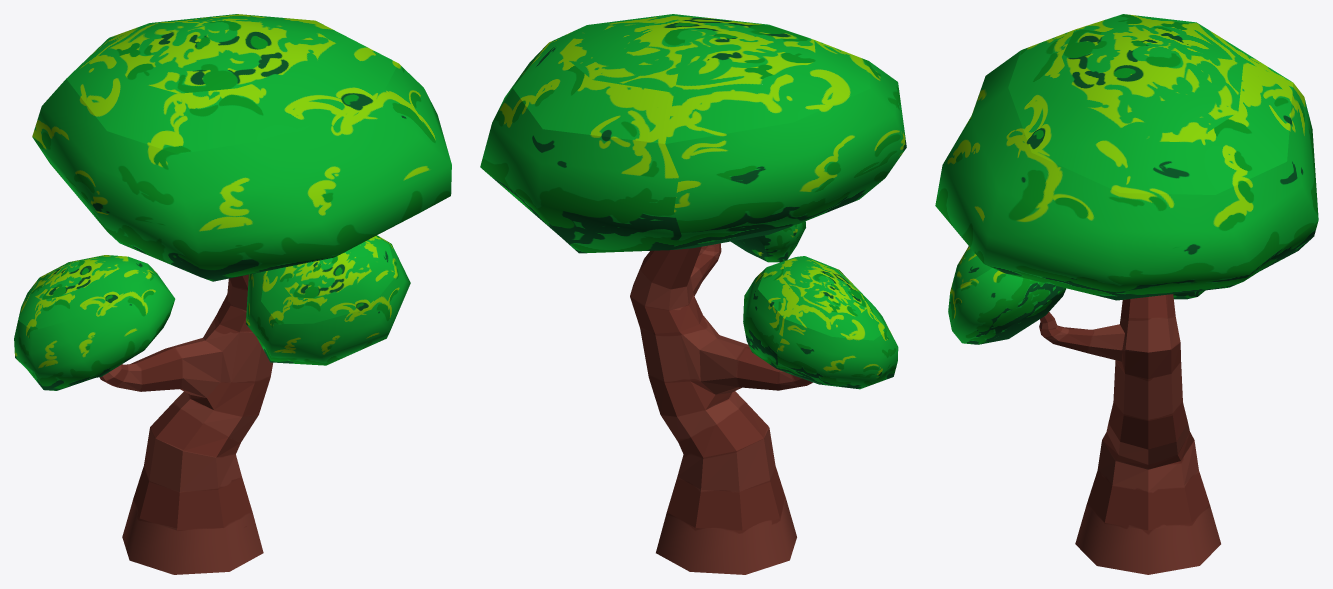
The model's file is Arbol Normal.fbx.
3 views of the same model, side by side, from view 1: azimuth 30°, elevation 25°; view 2: azimuth 150°, elevation 25°; view 3: azimuth 270°, elevation 25° (orthographic).
Visible parts, largest first — view 1: Hojal An, Tronco An; view 2: Hojal An, Tronco An; view 3: Hojal An, Tronco An.
Part boxes in pixels (bbox=[...]): Hojal An: bbox=[14, 14, 451, 390]; Tronco An: bbox=[99, 274, 272, 574]; Hojal An: bbox=[480, 14, 906, 389]; Tronco An: bbox=[630, 243, 812, 574]; Hojal An: bbox=[935, 14, 1318, 344]; Tronco An: bbox=[1039, 294, 1220, 574].
Size of the model in its own units: 150 by 182 by 124.
